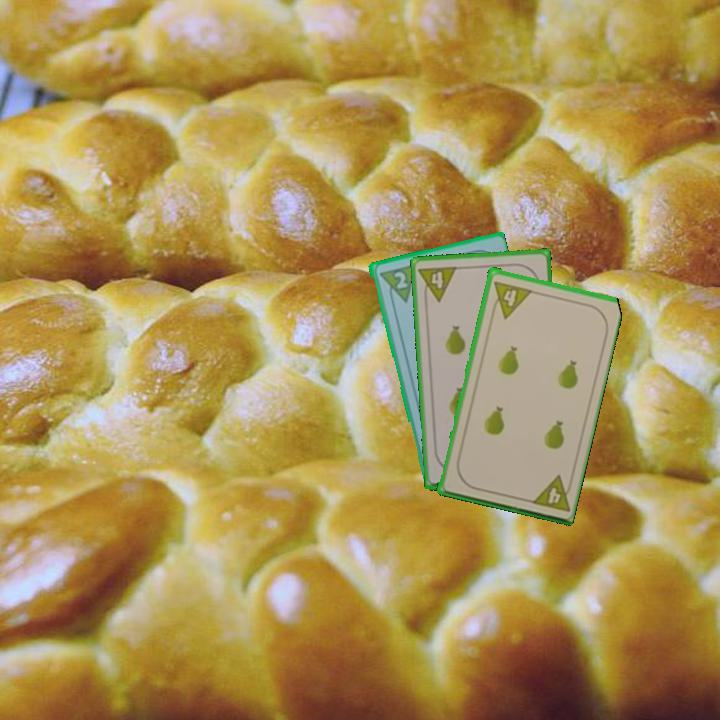2p: (375, 260, 419, 308)
4p: (526, 471, 576, 515), (487, 277, 534, 320), (415, 262, 460, 305)
